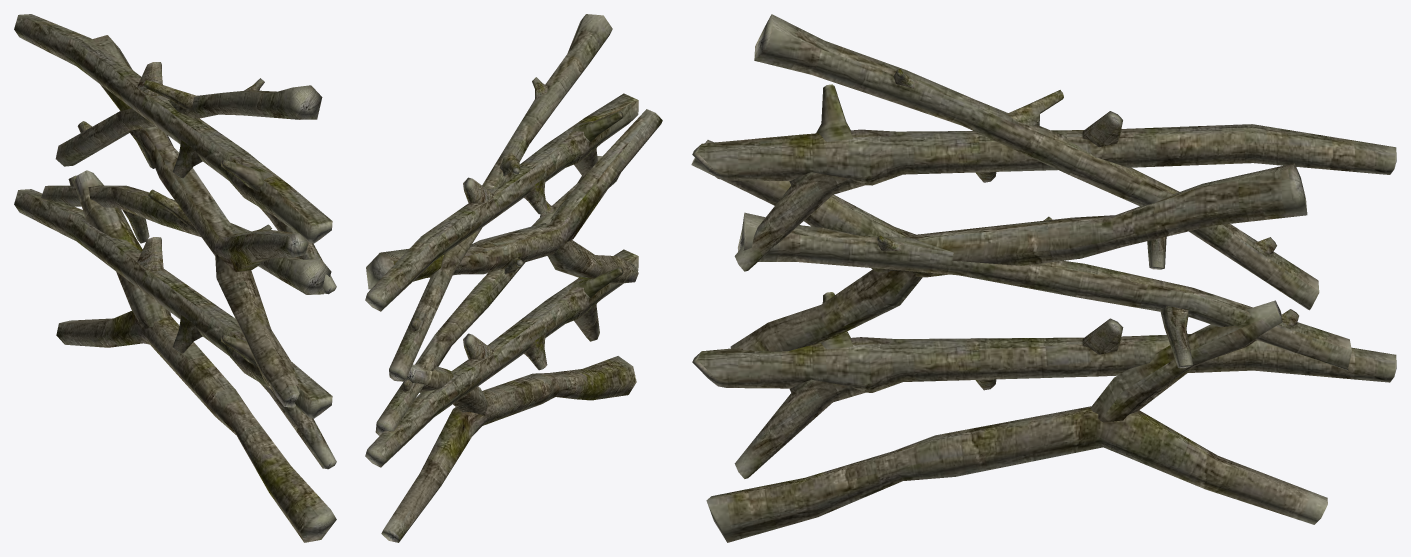
File: Branches.fbx
3 views of the same model, side by side, from view 1: azimuth 30°, elevation 25°; view 2: azimuth 150°, elevation 25°; view 3: azimuth 270°, elevation 25° (orthographic). The views are drawn at different scales.
Visible parts, largest first — view 1: defaultMaterial.001, defaultMaterial.004, defaultMaterial.002, defaultMaterial.003, defaultMaterial.005, defaultMaterial; view 2: defaultMaterial.004, defaultMaterial.001, defaultMaterial.003, defaultMaterial.002, defaultMaterial.005, defaultMaterial; view 3: defaultMaterial.001, defaultMaterial.004, defaultMaterial.002, defaultMaterial.003, defaultMaterial.005, defaultMaterial.
Boxes of the visible parts, x1,y1,x2,y2 form: defaultMaterial.001: (56, 170, 336, 542); defaultMaterial.004: (14, 14, 336, 294); defaultMaterial.002: (14, 189, 336, 469); defaultMaterial.003: (92, 35, 308, 407); defaultMaterial.005: (55, 78, 322, 168); defaultMaterial: (41, 175, 331, 294); defaultMaterial.004: (365, 93, 638, 311); defaultMaterial.001: (381, 356, 636, 542); defaultMaterial.003: (366, 109, 662, 289); defaultMaterial.002: (365, 249, 638, 467); defaultMaterial.005: (389, 14, 612, 381); defaultMaterial: (375, 156, 620, 435); defaultMaterial.001: (706, 300, 1327, 542); defaultMaterial.004: (692, 84, 1396, 271); defaultMaterial.002: (692, 292, 1396, 478); defaultMaterial.003: (691, 140, 1307, 351); defaultMaterial.005: (754, 14, 1319, 310); defaultMaterial: (738, 212, 1351, 370).
Size of the model in its own units: 36.37 by 164 by 200.
Materials: 4 (4 with a texture image).
